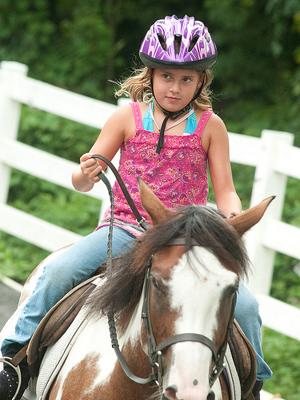person: (1, 13, 271, 400)
